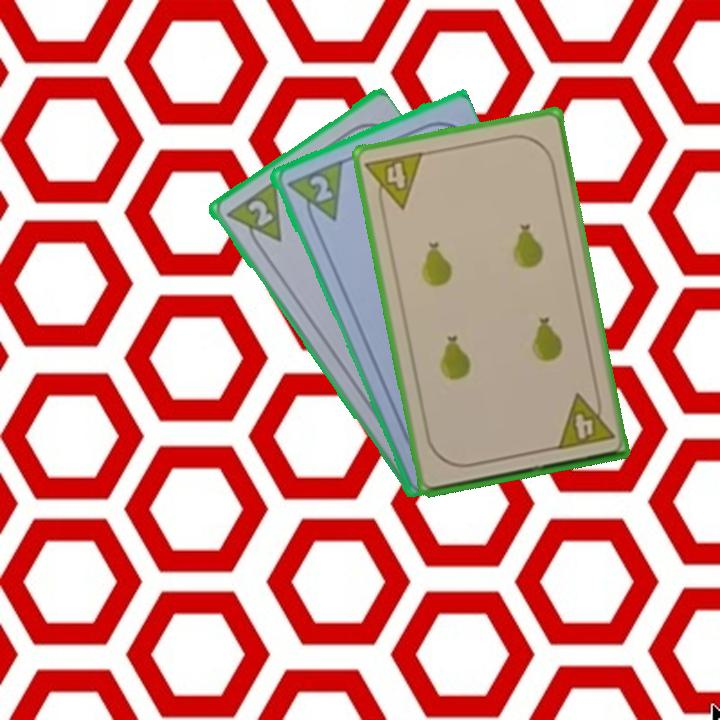2p: (282, 156, 345, 231), (243, 195, 276, 230)
4p: (552, 387, 617, 453), (362, 148, 426, 215)
